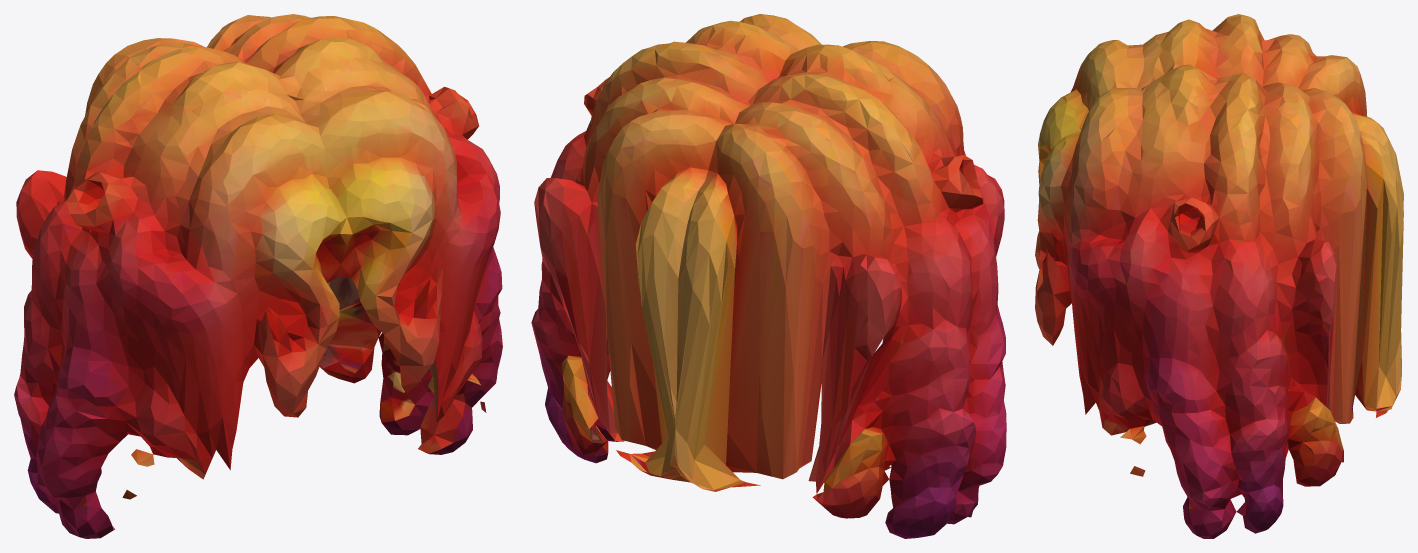
File: hairstyle_045.glb
3 views of the same model, side by side, from view 1: azimuth 30°, elevation 25°; view 2: azimuth 150°, elevation 25°; view 3: azimuth 270°, elevation 25° (orthographic). The views are drawn at different scales.
Visible parts, largest first — view 1: geometry_0_045; view 2: geometry_0_045; view 3: geometry_0_045.
Part boxes in pixels (x1,y1,x2,y2): geometry_0_045: [14, 14, 502, 538]; geometry_0_045: [531, 14, 1006, 538]; geometry_0_045: [1035, 14, 1403, 538].
Bounding box in the file's own units: 1.14 × 1.06 × 0.8642.
Materials: 1 (1 with a texture image).
